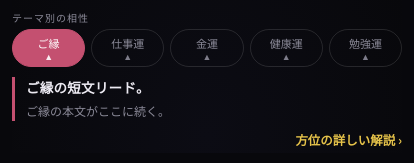
Scenario: FusionCard 軸切替（paid） › 軸チップをクリックするとランク記号・リード・本文が連動して切り替わる
Expected: the text "ご縁の短文リード。" is shown, x1=26 y1=77 x2=150 y2=97
Click the tab "健康運 ▲" at (286, 48), box x1=250 y1=29 x2=323 y2=67
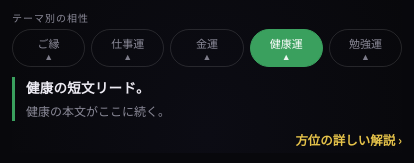
Expected: the text "健康の短文リード。" is shown, x1=26 y1=77 x2=150 y2=97
Expected: the text "健康の本文がここに続く。" is shown, x1=26 y1=102 x2=170 y2=119
Expected: the text "ご縁の短文リード。" is gone
